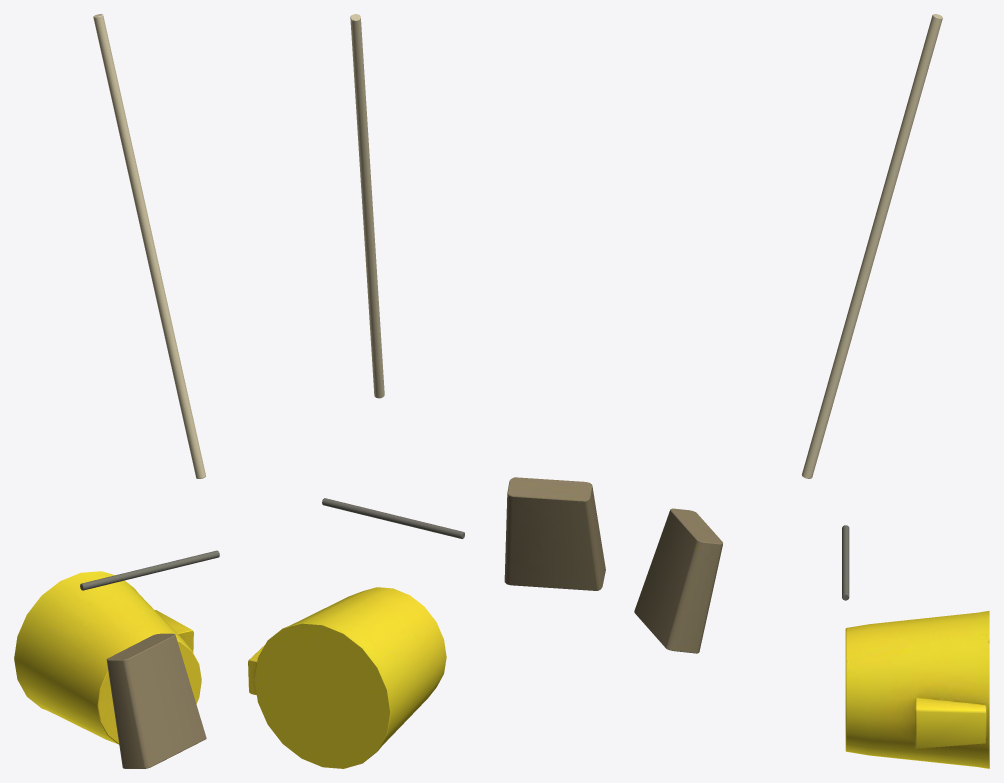
File: LV_mop_bucket.glb
3 renders of one model, left to right at view 1: azimuth 30°, elevation 25°; view 2: azimuth 150°, elevation 25°; view 3: azimuth 270°, elevation 25°, orthographic. The views are drawn at different scales.
Visible parts, largest first — view 1: LV_mop_bucket; view 2: LV_mop_bucket; view 3: LV_mop_bucket.
Boxes of the visible parts, bbox=[...] form: LV_mop_bucket: bbox=[14, 14, 219, 768]; LV_mop_bucket: bbox=[248, 14, 605, 768]; LV_mop_bucket: bbox=[634, 14, 989, 768].
Bounding box in the file's own units: 0.5989 × 2.11 × 0.9133.
Materials: 1 (1 with a texture image).
